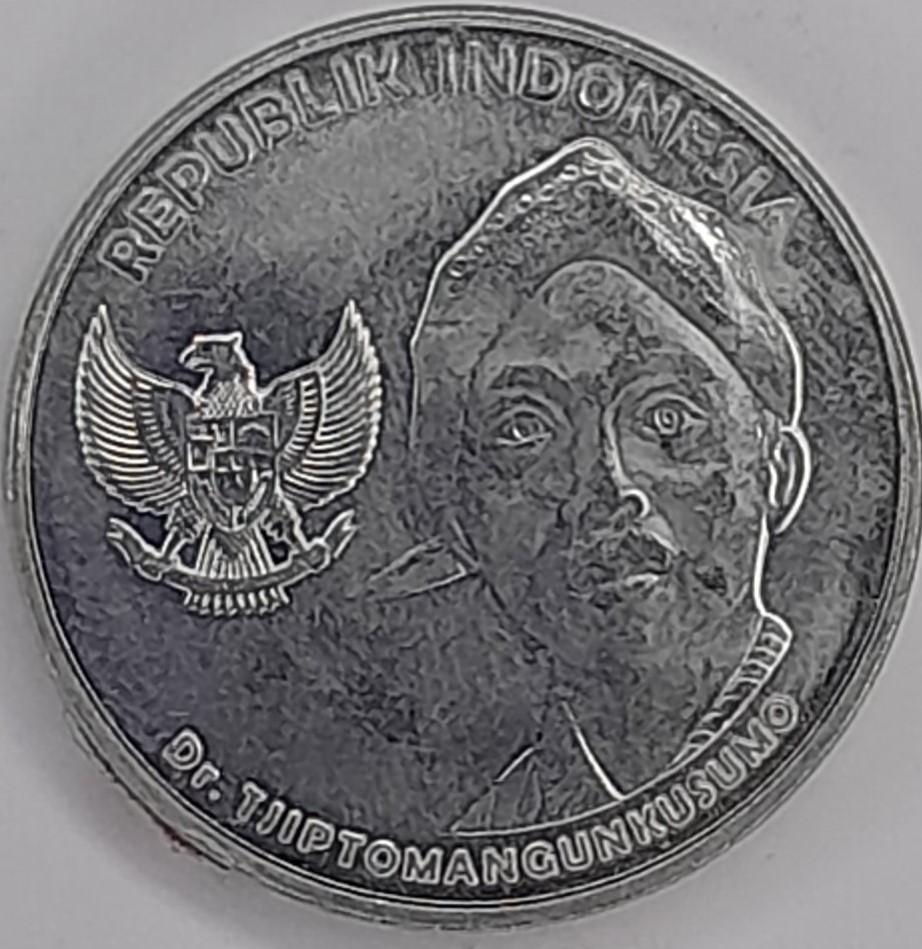coin_200_e2016: (0, 16, 922, 949)
